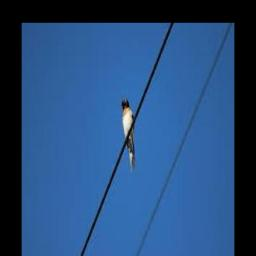Swallow: (121, 98, 136, 172)
